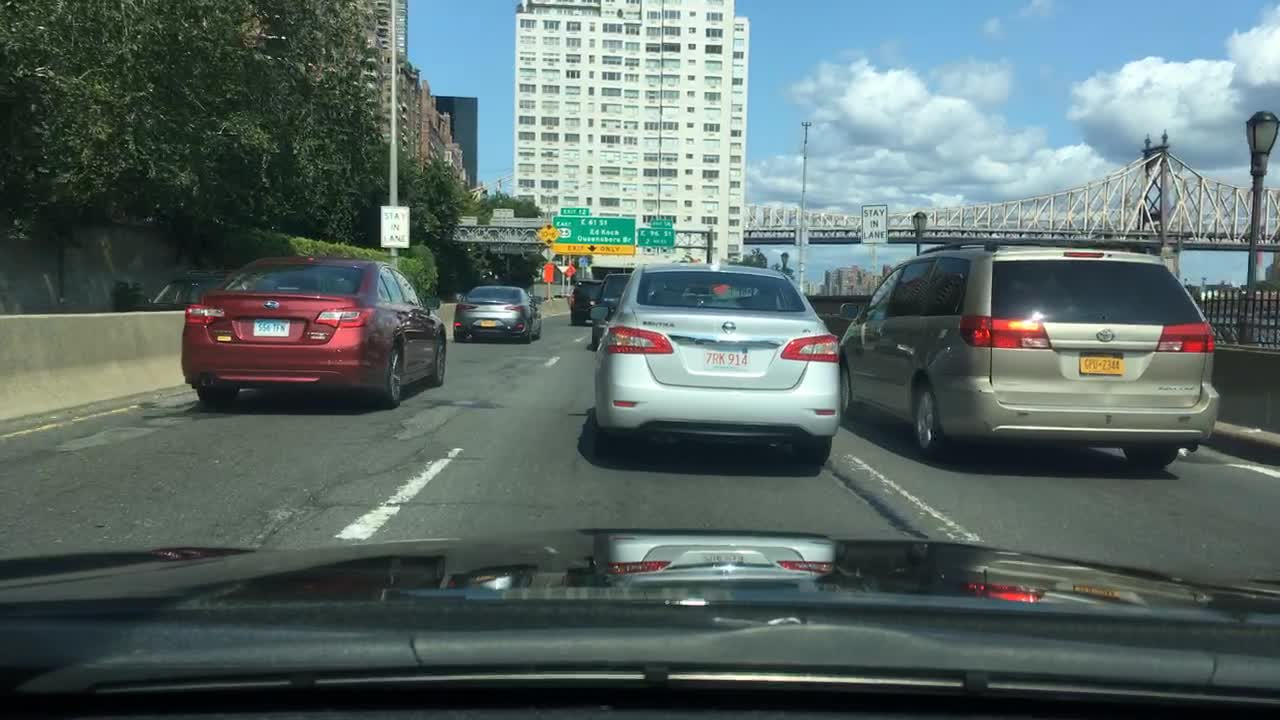car: (838, 239, 1220, 473), (594, 263, 842, 466), (180, 254, 448, 409), (452, 284, 541, 342), (589, 272, 633, 349), (568, 275, 605, 324)
traffic sign: (551, 215, 636, 254), (379, 204, 410, 247), (860, 203, 888, 244), (636, 227, 677, 248), (536, 223, 561, 245), (559, 207, 590, 215), (540, 245, 555, 260), (650, 219, 673, 228), (542, 262, 552, 282), (563, 263, 575, 278), (578, 257, 588, 268)
